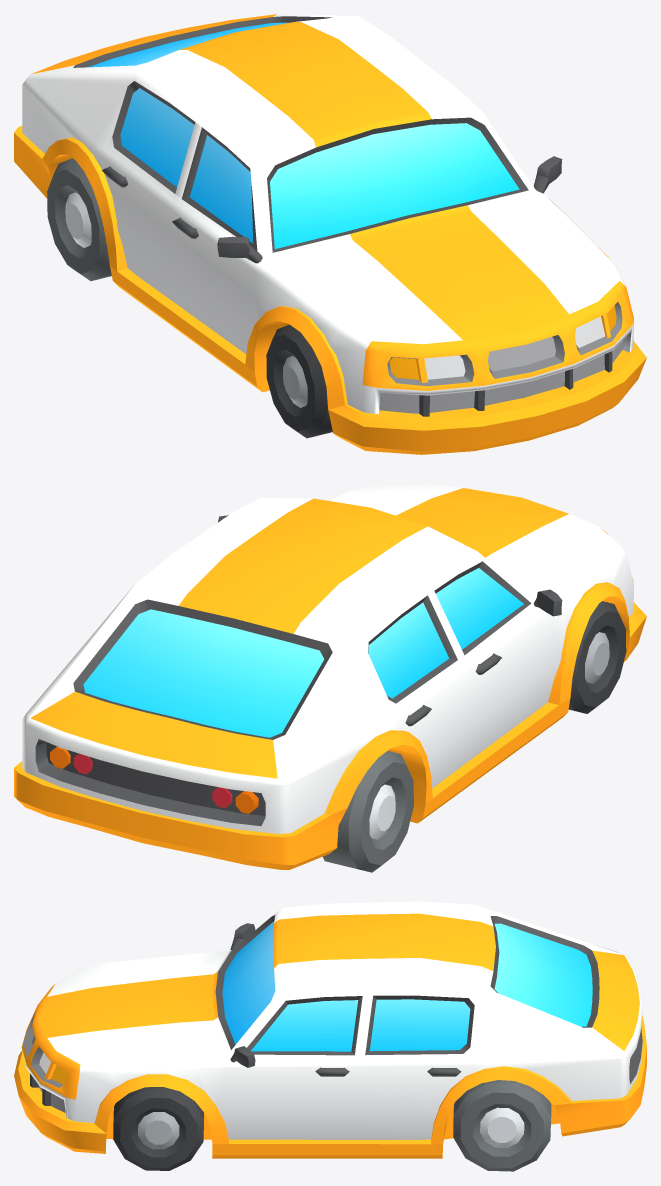
The model's file is city2-car-36.glb.
3 views of the same model, one above another, from view 1: azimuth 30°, elevation 25°; view 2: azimuth 150°, elevation 25°; view 3: azimuth 270°, elevation 25° (orthographic). The views are drawn at different scales.
Parts seen in each view (by area): view 1: Car_1.010, Wheel_082, Wheel_081; view 2: Car_1.010, Wheel_082, Wheel_081; view 3: Car_1.010, Wheel_084, Wheel_083.
Part boxes in pixels (left/top/right/bottom): Car_1.010: left=14, top=14, right=646, bottom=454; Wheel_082: left=47, top=158, right=111, bottom=280; Wheel_081: left=266, top=324, right=332, bottom=438; Car_1.010: left=14, top=483, right=646, bottom=869; Wheel_082: left=323, top=751, right=413, bottom=872; Wheel_081: left=568, top=601, right=626, bottom=713; Car_1.010: left=14, top=901, right=646, bottom=1158; Wheel_084: left=453, top=1080, right=551, bottom=1171; Wheel_083: left=113, top=1087, right=203, bottom=1170.
Bounding box in the file's own units: 2.41 × 1.52 × 4.83.
Materials: 2 (2 with a texture image).
